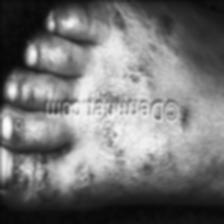Non-Cancerous Skin Condition: (70, 118, 158, 192), (4, 154, 54, 212), (112, 56, 150, 90), (152, 6, 176, 40), (107, 3, 130, 36), (176, 106, 192, 134)
